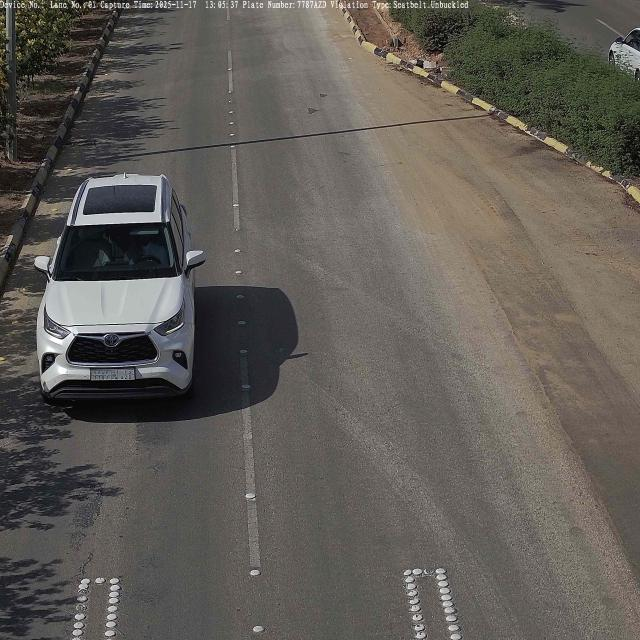person_without_seatbelt: (122, 232, 168, 267)
